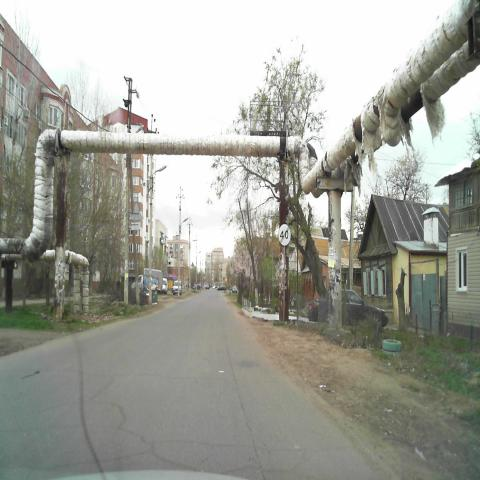3_25: (278, 223, 291, 248)
